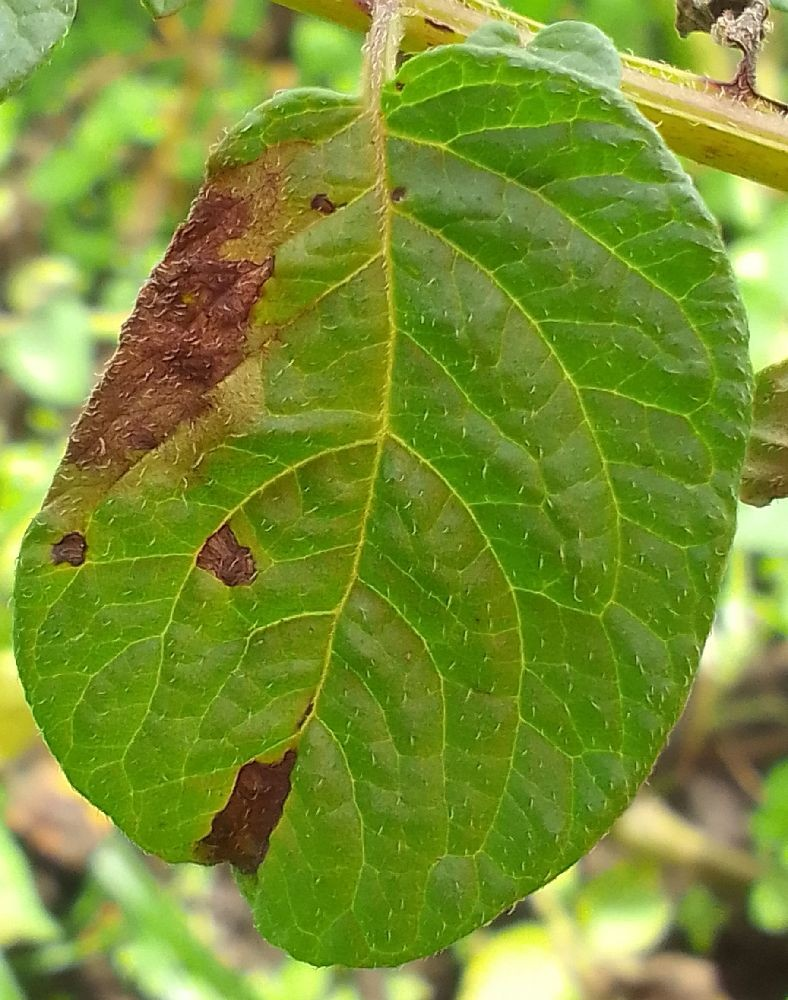late_blight: (28, 0, 506, 587), (531, 593, 788, 1000), (165, 714, 329, 998), (613, 0, 788, 201)
